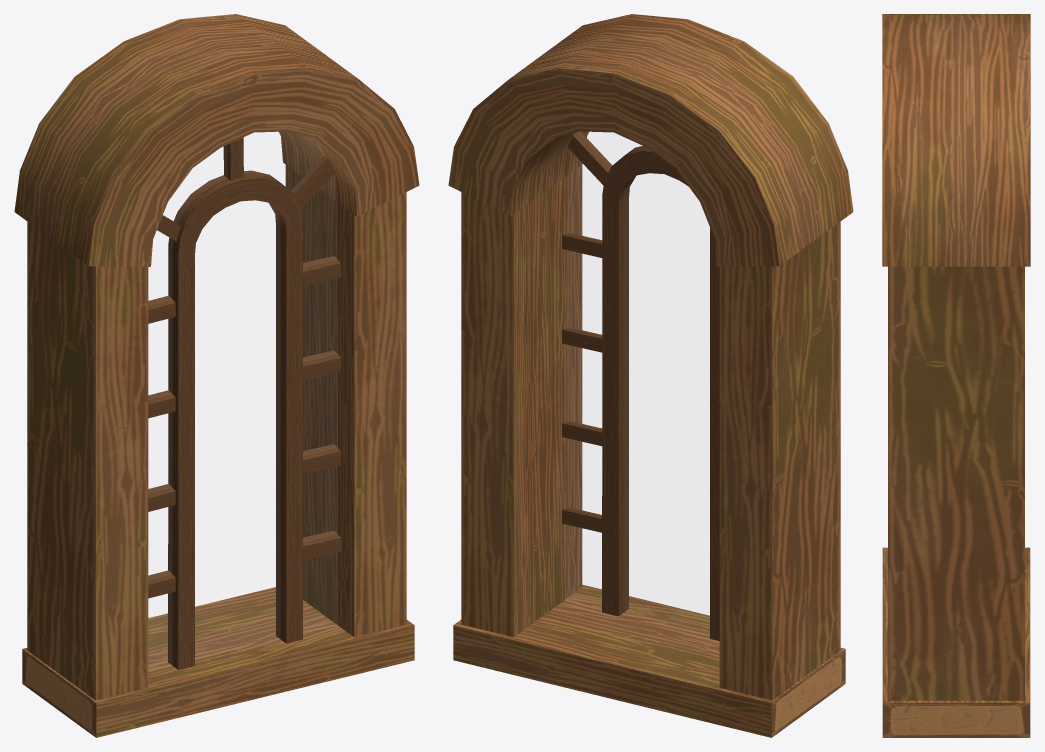
The model's file is Window_Thin_Round1.gltf.
The picture shows the model from 3 angles, left to right: view 1: azimuth 30°, elevation 25°; view 2: azimuth 150°, elevation 25°; view 3: azimuth 270°, elevation 25°; orthographic projection.
Parts seen in each view (by area): view 1: Window_Thin_Round1; view 2: Window_Thin_Round1; view 3: Window_Thin_Round1.
Boxes of the visible parts, x1=… form: Window_Thin_Round1: x1=14, y1=14, x2=419, y2=737; Window_Thin_Round1: x1=448, y1=14, x2=853, y2=737; Window_Thin_Round1: x1=882, y1=14, x2=1030, y2=737.
Size of the model in its own units: 0.8876 by 1.6 by 0.3444.
Materials: 2 (1 with a texture image).
